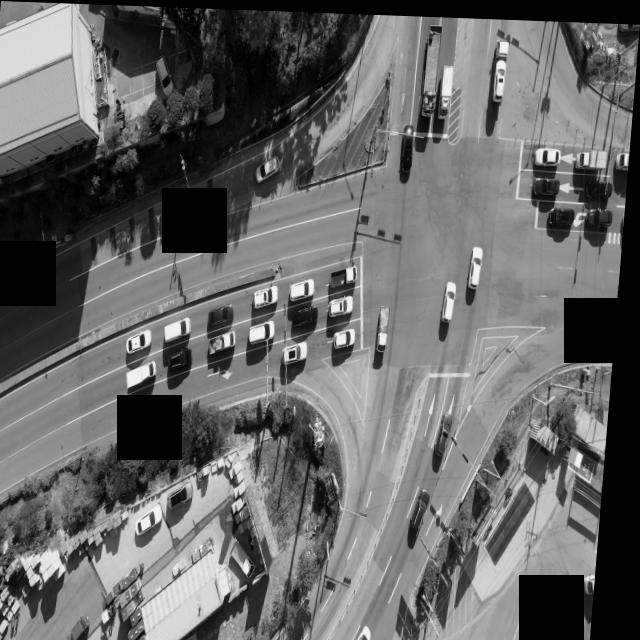car: (155, 54, 178, 102), (416, 488, 436, 536), (439, 409, 459, 455), (143, 502, 171, 534), (258, 151, 284, 181), (168, 314, 196, 341), (252, 318, 280, 343), (472, 241, 487, 285), (177, 483, 202, 509), (131, 330, 156, 355), (172, 346, 199, 369), (288, 339, 313, 363), (292, 277, 317, 300), (258, 284, 283, 307), (298, 303, 323, 326), (402, 137, 416, 178), (446, 278, 460, 318), (214, 301, 239, 323), (537, 143, 564, 163), (332, 292, 357, 313), (552, 203, 577, 224), (535, 173, 561, 193), (589, 203, 615, 222), (337, 325, 360, 346), (588, 176, 613, 195), (364, 622, 382, 640), (617, 18, 639, 28)
medium_truck: (422, 21, 442, 112), (491, 35, 509, 102)
small_truck: (237, 535, 267, 574), (129, 357, 161, 389), (440, 60, 456, 114), (576, 145, 609, 168), (211, 330, 239, 356), (331, 263, 361, 286), (381, 304, 396, 348), (78, 613, 98, 640), (592, 568, 605, 592), (617, 147, 632, 167)
